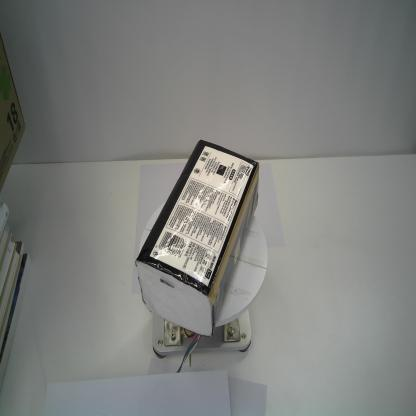Tissue: (132, 136, 262, 338)
